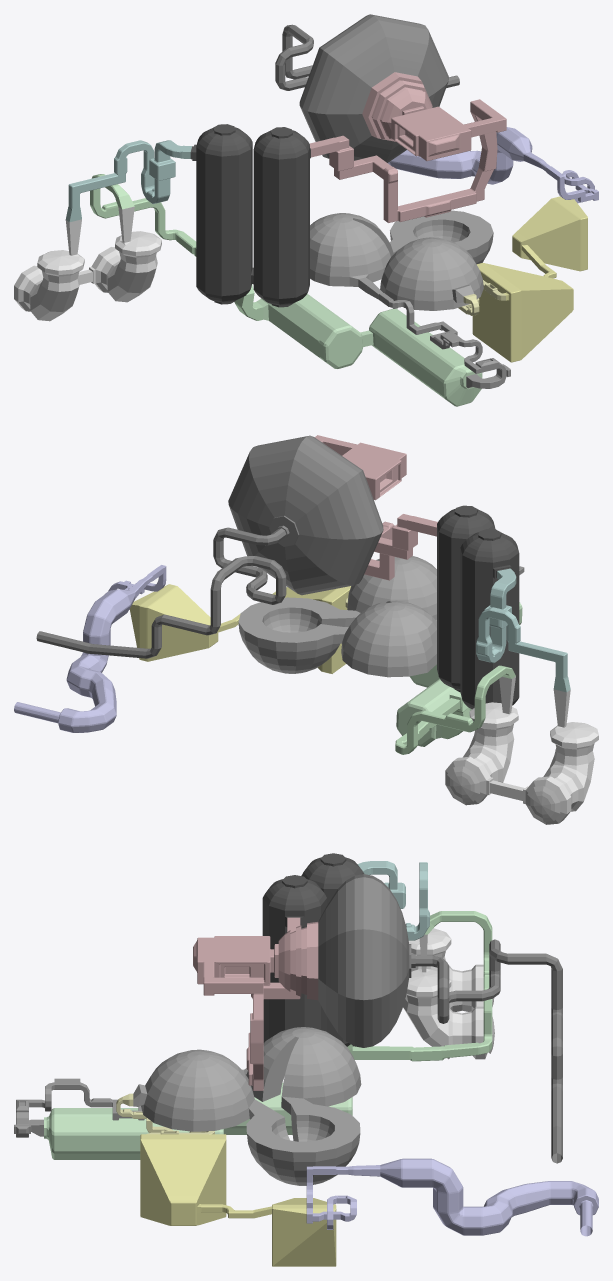
File: Sketch6.8.fbx
The picture shows the model from 3 angles, top to bottom: view 1: azimuth 30°, elevation 25°; view 2: azimuth 150°, elevation 25°; view 3: azimuth 270°, elevation 25°; orthographic projection. The views are drawn at different scales.
Visible parts, largest first — view 1: 2-Capacitor, 5-Breeder, 1-Reactor, 6-Relay, 1-ReactorTunnel, 4-Injectors, 3-Control, 2-CapacitorTunnel, 7-Cooler, 1-ReactorEntrance, 4-InjectorsTunnel, 3-ControlTunnel (+3 smaller); view 2: 1-Reactor, 5-Breeder, 2-Capacitor, 3-Control, 0-EscapeTunnel, 7-Cooler, 6-Relay, 1-ReactorTunnel, 2-CapacitorTunnel, 3-ControlTunnel, 4-Injectors, 6-RelayTunnel; view 3: 5-Breeder, 1-Reactor, 6-Relay, 7-Cooler, 2-Capacitor, 1-ReactorTunnel, 3-Control, 4-Injectors, 0-EscapeTunnel, 3-ControlTunnel, 1-ReactorEntrance, 4-InjectorsTunnel (+3 smaller).
Part boxes in pixels (x1,y1,x2,y2): 2-Capacitor: (190,124,310,307); 5-Breeder: (310,210,493,310); 1-Reactor: (299,14,448,162); 6-Relay: (472,196,587,362); 1-ReactorTunnel: (310,99,506,222); 4-Injectors: (256,293,482,406); 3-Control: (14,206,161,321); 2-CapacitorTunnel: (65,140,191,222); 7-Cooler: (387,127,555,184); 1-ReactorEntrance: (362,72,432,141); 4-InjectorsTunnel: (379,293,510,388); 3-ControlTunnel: (90,174,263,320); 1-Reactor: (228,435,383,595); 5-Breeder: (238,556,436,677); 2-Capacitor: (437,505,519,709); 3-Control: (445,676,598,824); 0-EscapeTunnel: (36,515,299,658); 7-Cooler: (14,571,157,732); 6-Relay: (129,584,350,673); 1-ReactorTunnel: (315,435,437,580); 2-CapacitorTunnel: (476,568,570,692); 3-ControlTunnel: (395,665,515,754); 4-Injectors: (396,602,522,746); 6-RelayTunnel: (105,565,166,594); 5-Breeder: (133,1027,361,1185); 1-Reactor: (318,874,409,1047); 6-Relay: (140,1134,336,1266); 7-Cooler: (325,1158,598,1236); 2-Capacitor: (262,853,364,1046); 1-ReactorTunnel: (193,917,300,1090); 3-Control: (403,928,494,1059); 4-Injectors: (44,1082,352,1159); 0-EscapeTunnel: (409,939,562,1163); 3-ControlTunnel: (347,911,492,1061); 1-ReactorEntrance: (278,922,318,1000); 4-InjectorsTunnel: (14,1078,144,1137).
Size of the model in its own units: 3058 by 1620 by 2729.
